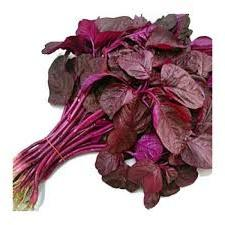amaranth: (11, 12, 212, 211), (133, 132, 163, 163)
